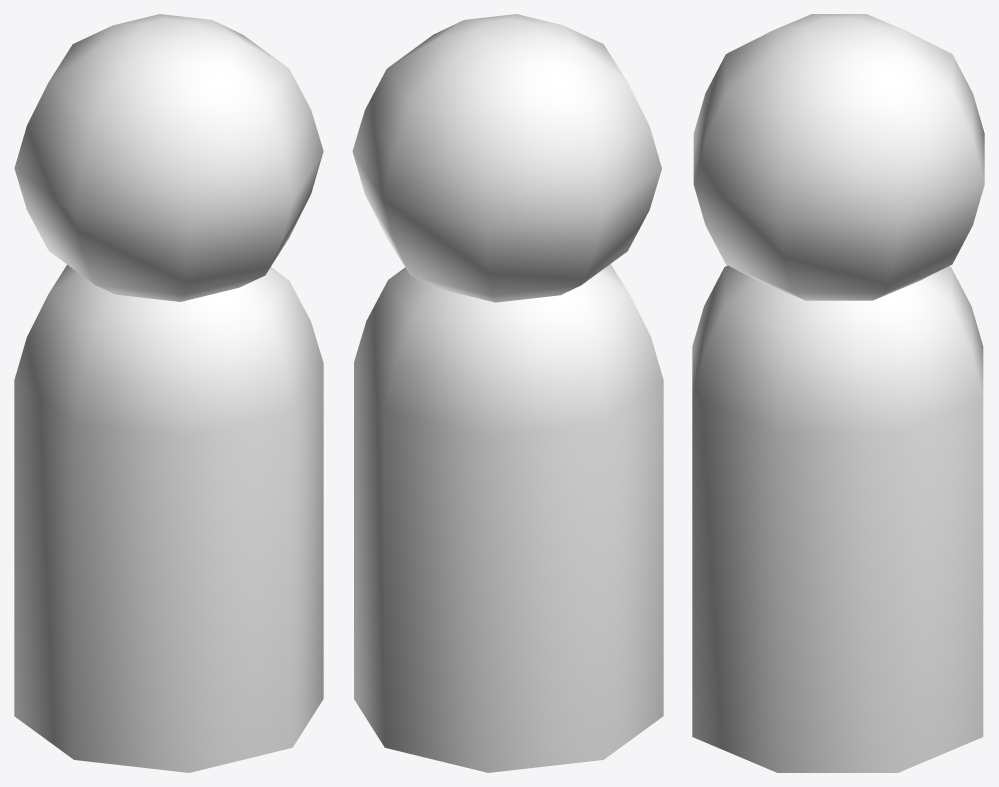
File: Person.dae
3 renders of one model, left to right at view 1: azimuth 30°, elevation 25°; view 2: azimuth 150°, elevation 25°; view 3: azimuth 270°, elevation 25°, orthographic.
Visible parts, largest first — view 1: instance_1, instance_0; view 2: instance_1, instance_0; view 3: instance_1, instance_0.
Boxes of the visible parts, box(x1,y1,x2,y2) form: instance_1: box(14, 264, 323, 772); instance_0: box(14, 14, 323, 301); instance_1: box(354, 264, 663, 772); instance_0: box(352, 14, 661, 302); instance_1: box(692, 265, 983, 772); instance_0: box(693, 14, 984, 300).
Bounding box in the file's own units: 0.153 × 0.1533 × 0.3936.
Materials: 2 (2 with a texture image).
